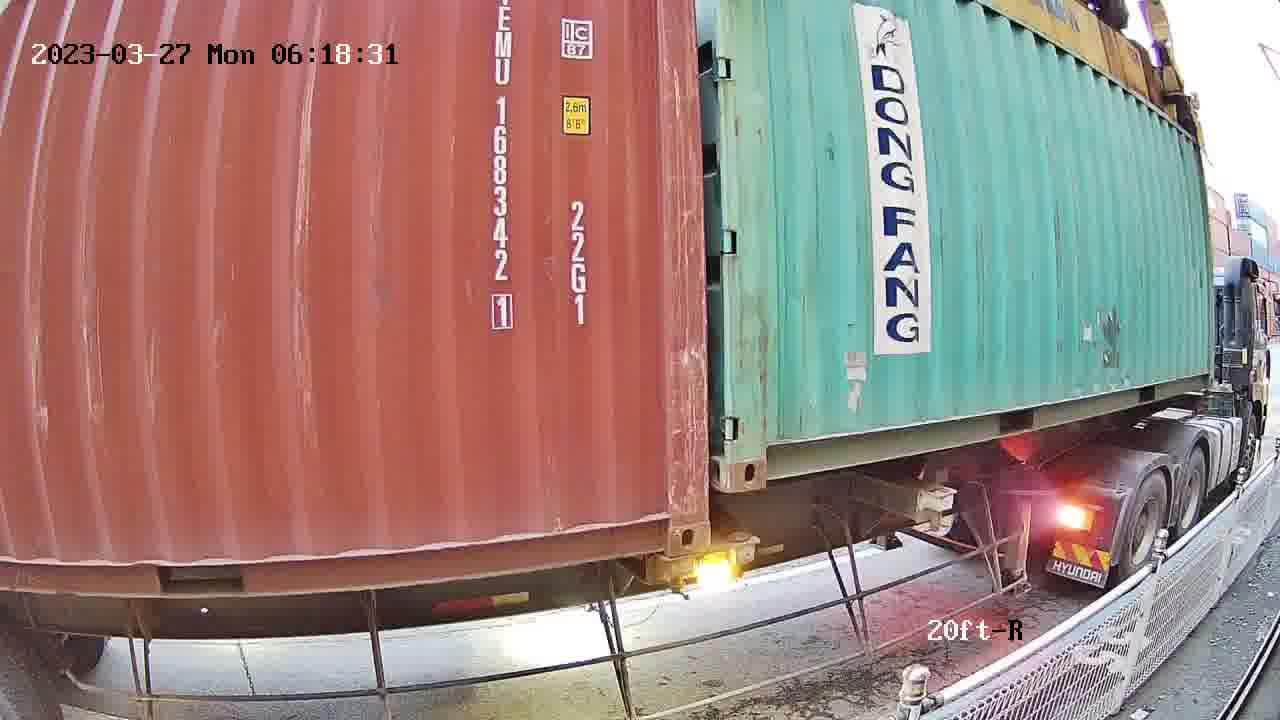Cone: (661, 556, 704, 603), (722, 531, 758, 575)
Hole_L: (730, 414, 802, 493)
Hole_R: (623, 488, 708, 556)
Tire: (1121, 474, 1168, 580), (1175, 450, 1206, 536)
